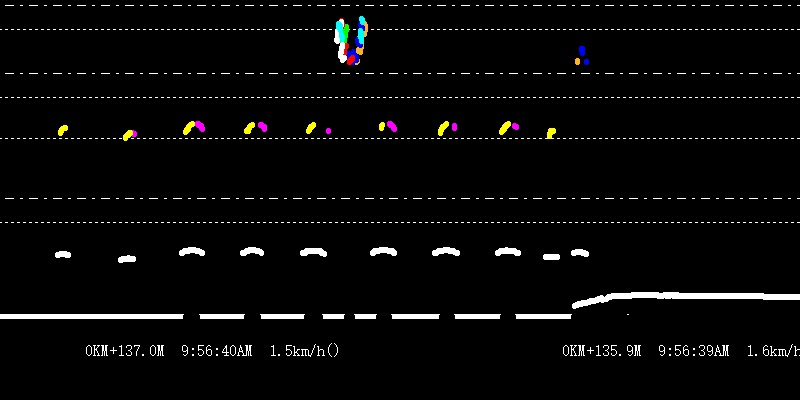J: (333, 1, 371, 66)
y_p: (171, 111, 527, 264)
